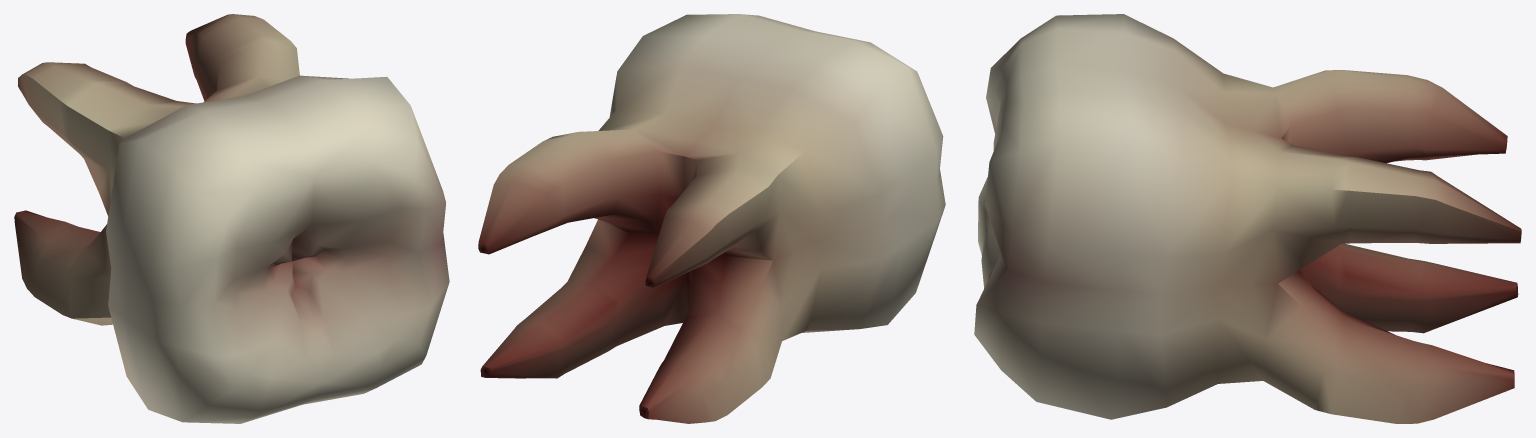
Rendered from animals-animalparts-tooth_v6.fbx.
3 renders of one model, left to right at view 1: azimuth 30°, elevation 25°; view 2: azimuth 150°, elevation 25°; view 3: azimuth 270°, elevation 25°, orthographic. The views are drawn at different scales.
Visible parts, largest first — view 1: Tooth_v6; view 2: Tooth_v6; view 3: Tooth_v6.
Part boxes in pixels (bbox=[...]): Tooth_v6: bbox=[14, 14, 449, 423]; Tooth_v6: bbox=[478, 14, 945, 423]; Tooth_v6: bbox=[974, 14, 1521, 423].
Bounding box in the file's own units: 0.3862 × 0.3564 × 0.5787.
